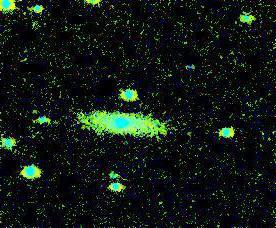star: (19, 94, 49, 124)
